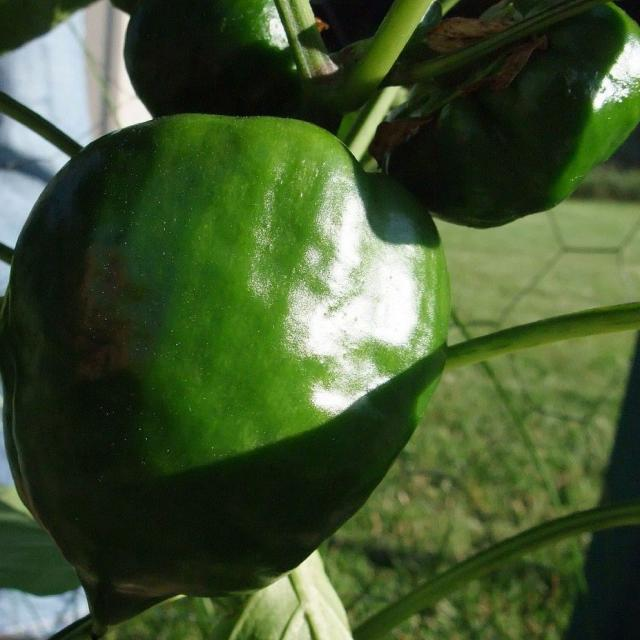bell pepper: (0, 118, 432, 595)
